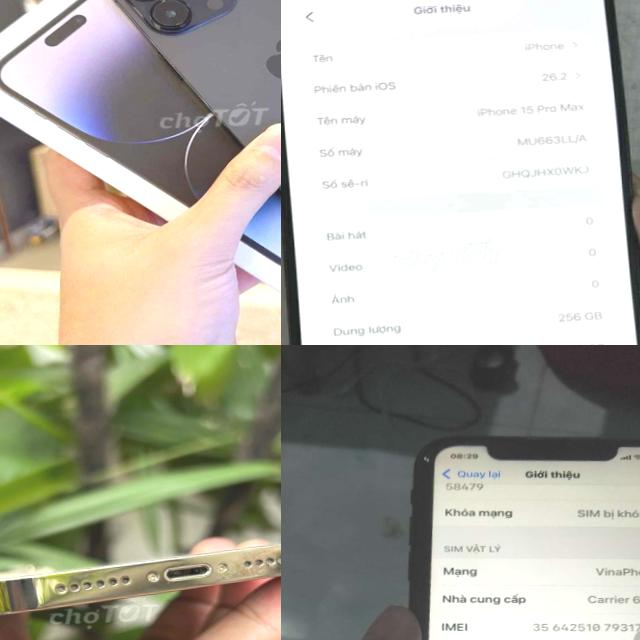gen_14: (108, 0, 281, 234), (0, 526, 281, 619)
gen_15: (281, 0, 640, 345)
gen_x_xs: (408, 437, 640, 640)
